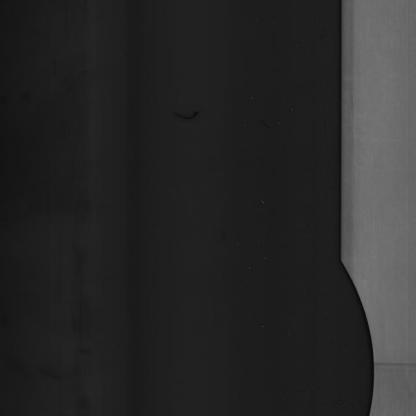crescent_gap: (332, 244, 385, 416)
welding_line: (368, 352, 416, 379)
